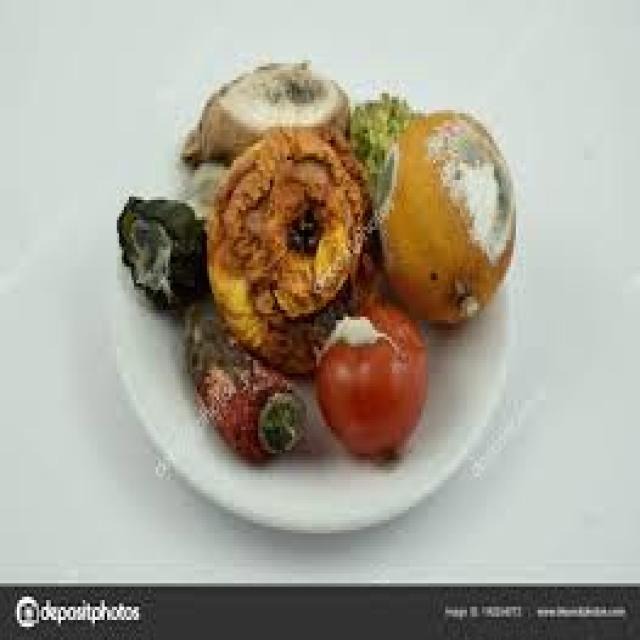food_waste: (117, 63, 511, 460)
